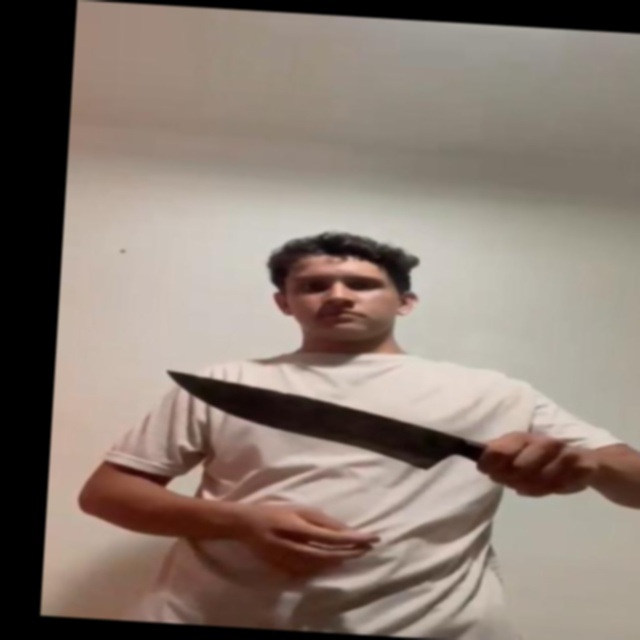Sharp-Object: (160, 371, 466, 473)
